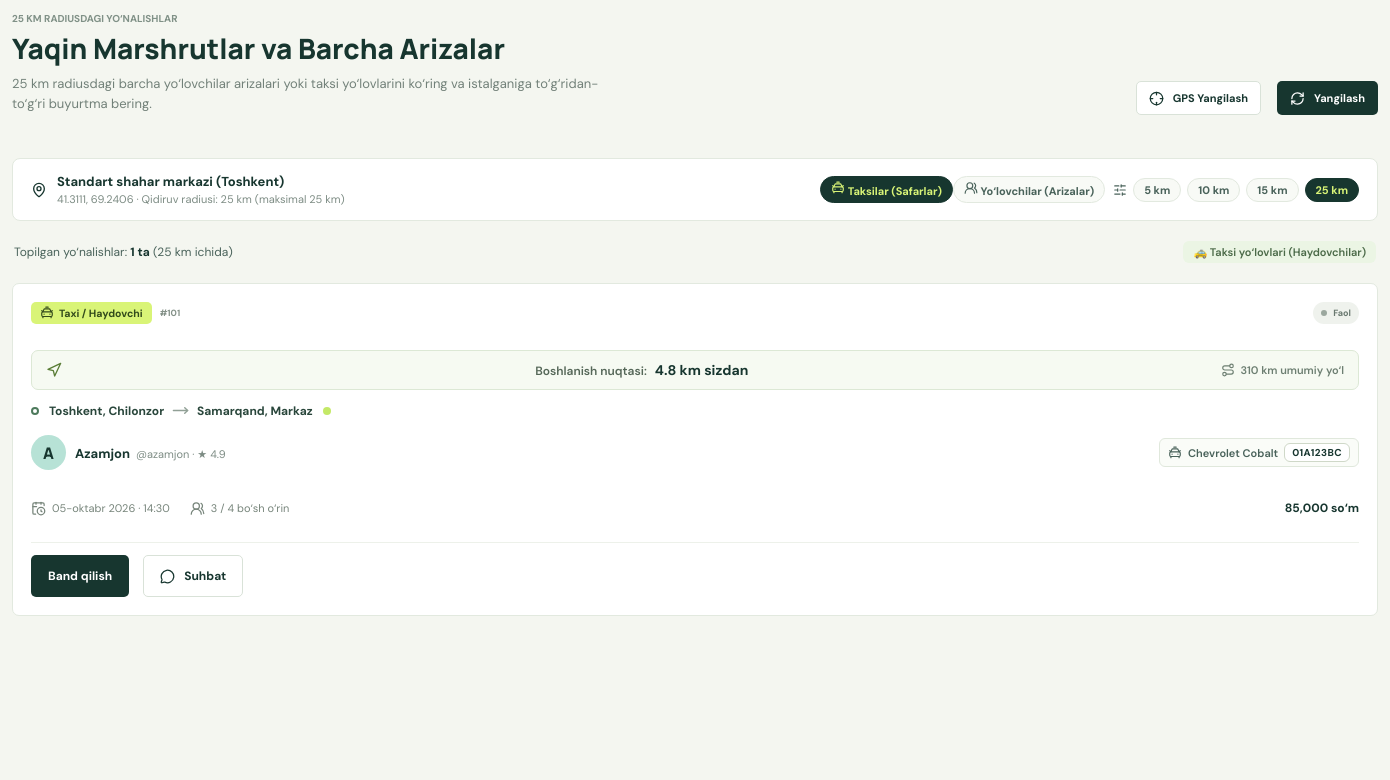
Test: DirectionsPage › handles successful booking from the Directions card
This screenshot has width=1390, height=780.
Click the button "Band qilish" at (80, 576), box [31, 555, 129, 597]
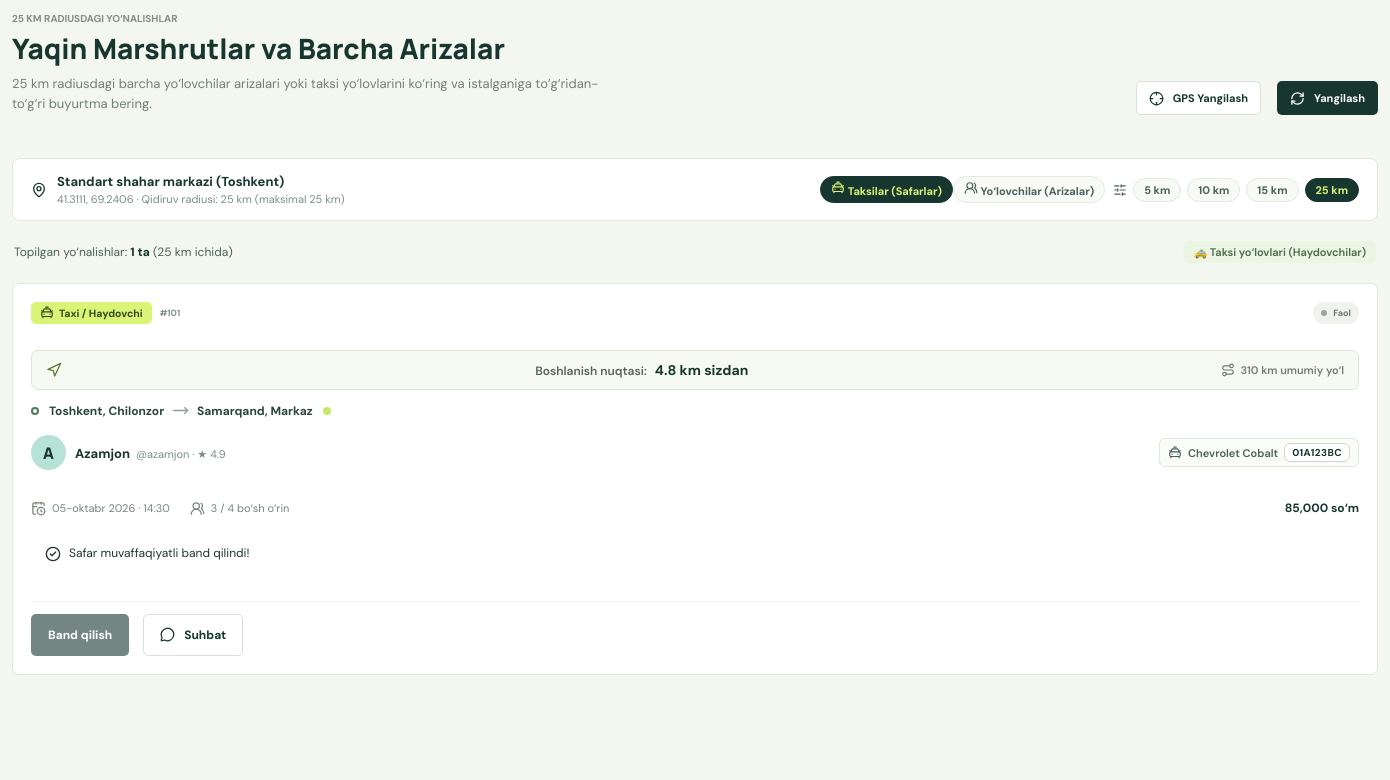
Expected: the text "Safar muvaffaqiyatli band qilindi!" is shown, [69, 544, 250, 563]
